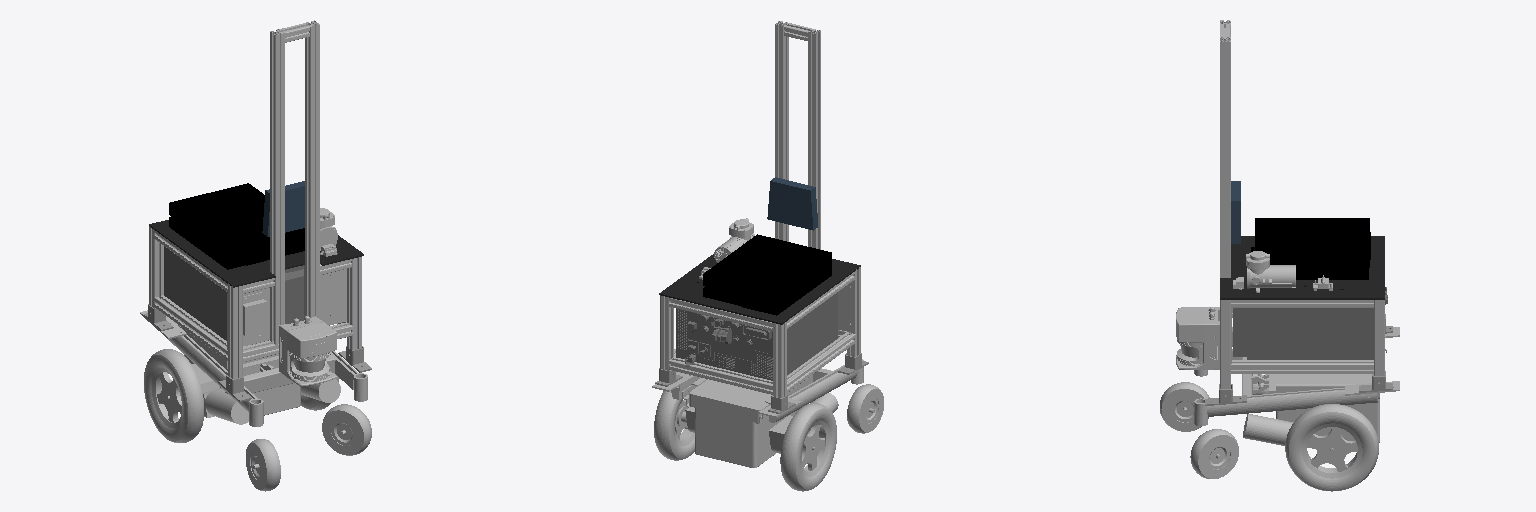
--- Facts derived from the render (not from the file) ---
The picture shows the robot from 3 angles, left to right: view 1: azimuth 30°, elevation 25°; view 2: azimuth 150°, elevation 25°; view 3: azimuth 270°, elevation 25°; orthographic projection.
Robot: robot_no_arm — 25 links, 24 joints (6 continuous, 18 fixed); root link frame1; default pose: every joint at zero.
Links seen in each view (by area): view 1: frame1, frame_solid:11, PC1, r_drive wheel1, IRC5_Compact1, SICK_LMS2911, top_plate1, l_caster_wheel1, r_caster_wheel1, router1, compressor1; view 2: frame1, frame_solid:11, IRC5_Compact1, PC1, r_drive wheel1, top_plate1, router1, l_drive_wheel1, r_caster_wheel1, compressor1; view 3: frame1, IRC5_Compact1, frame_solid:11, PC1, l_drive_wheel1, top_plate1, SICK_LMS2911, l_caster_wheel1, r_caster_wheel1, compressor1, router1.
Link boxes in pixels (x1=…): frame1: x1=149, y1=20, x2=361, y2=378; frame_solid:11: x1=167, y1=323, x2=367, y2=426; PC1: x1=169, y1=183, x2=304, y2=269; r_drive wheel1: x1=144, y1=349, x2=203, y2=442; IRC5_Compact1: x1=164, y1=246, x2=329, y2=344; SICK_LMS2911: x1=280, y1=316, x2=336, y2=386; top_plate1: x1=149, y1=220, x2=363, y2=287; l_caster_wheel1: x1=322, y1=404, x2=371, y2=455; r_caster_wheel1: x1=246, y1=439, x2=280, y2=491; router1: x1=262, y1=181, x2=304, y2=236; compressor1: x1=320, y1=208, x2=337, y2=248; frame1: x1=660, y1=21, x2=860, y2=397; frame_solid:11: x1=671, y1=359, x2=863, y2=467; IRC5_Compact1: x1=676, y1=292, x2=837, y2=380; PC1: x1=703, y1=234, x2=831, y2=315; r_drive wheel1: x1=780, y1=403, x2=836, y2=491; top_plate1: x1=659, y1=254, x2=860, y2=324; router1: x1=767, y1=177, x2=817, y2=230; l_drive_wheel1: x1=654, y1=391, x2=694, y2=460; r_caster_wheel1: x1=847, y1=384, x2=883, y2=433; compressor1: x1=714, y1=218, x2=754, y2=262; frame1: x1=1218, y1=20, x2=1384, y2=395; IRC5_Compact1: x1=1233, y1=287, x2=1387, y2=359; frame_solid:11: x1=1194, y1=349, x2=1379, y2=451; PC1: x1=1251, y1=218, x2=1370, y2=279; l_drive_wheel1: x1=1285, y1=404, x2=1378, y2=491; top_plate1: x1=1220, y1=236, x2=1384, y2=299; SICK_LMS2911: x1=1176, y1=307, x2=1217, y2=369; l_caster_wheel1: x1=1190, y1=429, x2=1238, y2=478; r_caster_wheel1: x1=1160, y1=382, x2=1209, y2=431; compressor1: x1=1246, y1=251, x2=1295, y2=292; router1: x1=1231, y1=181, x2=1240, y2=243.
Size in the robot's own frame: 0.6308 by 0.8792 by 1.72 metres.
20 mesh visuals loaded from 18 distinct referenced files (15 binary STL); not drawn: 5 (reference not matched to a file when rendering).

URDF robot description (robot_no_arm):
<?xml version="1.0" ?>
<robot name="robot_no_arm">
	<link name="frame1">
		<visual>
			<geometry>
				<mesh filename="package://abby_description/meshes/al_frame_iam_3826baa4.stl" scale="0.0254 0.0254 0.0254"/>
			</geometry>
			<origin rpy="0 0 0" xyz="0.0446356739978 0.177065647653 -0.0893087163603"/>
			<material name="frame1_color">
				<color rgba="0.752941 0.752941 0.752941 1"/>
			</material>
		</visual>
		<inertial>
			<mass value="12.7774249075"/>
			<inertia ixx="2.11995607184" ixy="-0.0128393605839" ixz="-0.0068818565379" iyy="1.84586933127" iyz="0.34872380742" izz="1.11710077832"/>
			<origin rpy="0 0 0" xyz="0.0382793240557 -0.271251963735 0.649589084908"/>
		</inertial>
		<collision>
			<geometry>
				<mesh filename="package://abby_description/meshes/al_frame_iam_3826baa4.stl" scale="0.0254 0.0254 0.0254"/>
			</geometry>
			<origin rpy="0 0 0" xyz="0.0446356739978 0.177065647653 -0.0893087163603"/>
		</collision>
	</link>
	<link name="f_r_frame_bracket1">
		<visual>
			<geometry>
				<mesh filename="package://abby_description/meshes/frame bracket_ipt_f5a4f28d.stl" scale="0.0254 0.0254 0.0254"/>
			</geometry>
			<origin rpy="0 0 0" xyz="-0.0946635865578 -0.0205552039632 -0.424782665556"/>
			<material name="f_r_frame_bracket1_color">
				<color rgba="0.639216 0.639216 0.639216 1"/>
			</material>
		</visual>
		<inertial>
			<mass value="0.71440798275"/>
			<inertia ixx="0.00043051877529" ixy="0.0" ixz="-1.18150140291e-05" iyy="0.00109167940213" iyz="0.0" izz="0.00105983757016"/>
			<origin rpy="0 0 0" xyz="-0.0175668955453 0.00484479603152 -0.408054413923"/>
		</inertial>
		<collision>
			<geometry>
				<mesh filename="package://abby_description/meshes/frame bracket_ipt_f5a4f28d.stl" scale="0.0254 0.0254 0.0254"/>
			</geometry>
			<origin rpy="0 0 0" xyz="-0.0946635865578 -0.0205552039632 -0.424782665556"/>
		</collision>
	</link>
	<joint name="frame--f_r_frame_bracket1" type="fixed">
		<parent link="frame1"/>
		<child link="f_r_frame_bracket1"/>
		<origin rpy="0 -0.0938814541614 1.5707963268" xyz="-0.197196963951 -0.46840807491 0.660027160644"/>
	</joint>
	<link name="f_l_frame_bracket1">
		<visual>
			<geometry>
				<mesh filename="package://abby_description/meshes/frame bracket_ipt_f5a4f28d.stl" scale="0.0254 0.0254 0.0254"/>
			</geometry>
			<origin rpy="0 0 0" xyz="-0.050800692836 -0.0508000000121 -0.00634958439213"/>
			<material name="f_l_frame_bracket1_color">
				<color rgba="0.639216 0.639216 0.639216 1"/>
			</material>
		</visual>
		<inertial>
			<mass value="0.71440798275"/>
			<inertia ixx="0.00043051877529" ixy="0.0" ixz="-1.18150140291e-05" iyy="0.00109167940213" iyz="0.0" izz="0.00105983757016"/>
			<origin rpy="0 0 0" xyz="0.026295998169 -0.025399999994 0.0103786672398"/>
		</inertial>
		<collision>
			<geometry>
				<mesh filename="package://abby_description/meshes/frame bracket_ipt_f5a4f28d.stl" scale="0.0254 0.0254 0.0254"/>
			</geometry>
			<origin rpy="0 0 0" xyz="-0.050800692836 -0.0508000000121 -0.00634958439213"/>
		</collision>
	</link>
	<joint name="f_l_frame_bracket--f_r_frame_bracket1" type="fixed">
		<parent link="f_r_frame_bracket1"/>
		<child link="f_l_frame_bracket1"/>
		<origin rpy="0 0 0" xyz="-0.0438628937327 -0.464082383966 -0.418433081198"/>
	</joint>
	<link name="f_l_frame_plate1">
		<visual>
			<geometry>
				<mesh filename="package://abby_description/meshes/front frame plate_ipt_3e5bfe16.stl" scale="0.0254 0.0254 0.0254"/>
			</geometry>
			<origin rpy="0 0 0" xyz="0 0 0"/>
			<material name="f_l_frame_plate1_color">
				<color rgba="0.752941 0.752941 0.752941 1"/>
			</material>
		</visual>
		<inertial>
			<mass value="0.072583397455"/>
			<inertia ixx="0.000139975007751" ixy="0.0" ixz="0.0" iyy="3.5475798236e-05" iyz="0.0" izz="0.000174962980108"/>
			<origin rpy="0 0 0" xyz="0.0380034800186 0.0762017426097 0.00317605933453"/>
		</inertial>
		<collision>
			<geometry>
				<mesh filename="package://abby_description/meshes/front frame plate_ipt_3e5bfe16.stl" scale="0.0254 0.0254 0.0254"/>
			</geometry>
			<origin rpy="0 0 0" xyz="0 0 0"/>
		</collision>
	</link>
	<joint name="f_l_frame_plate--f_l_frame_bracket1" type="fixed">
		<parent link="f_l_frame_bracket1"/>
		<child link="f_l_frame_plate1"/>
		<origin rpy="-3.14159265359 0 1.57079632679" xyz="-0.050800692836 -0.0508000000121 -0.00634958439213"/>
	</joint>
	<link name="f_r_frame_plate1">
		<visual>
			<geometry>
				<mesh filename="package://abby_description/meshes/front frame plate_ipt_3e5bfe16.stl" scale="0.0254 0.0254 0.0254"/>
			</geometry>
			<origin rpy="0 0 0" xyz="-0.0381000000045 -0.0762009322898 -0.00634941359797"/>
			<material name="f_r_frame_plate1_color">
				<color rgba="0.752941 0.752941 0.752941 1"/>
			</material>
		</visual>
		<inertial>
			<mass value="0.072583397455"/>
			<inertia ixx="0.000139975007751" ixy="0.0" ixz="0.0" iyy="3.5475798236e-05" iyz="0.0" izz="0.000174962980108"/>
			<origin rpy="0 0 0" xyz="-9.52500002381e-05 9.97890829302e-07 -0.00317559036918"/>
		</inertial>
		<collision>
			<geometry>
				<mesh filename="package://abby_description/meshes/front frame plate_ipt_3e5bfe16.stl" scale="0.0254 0.0254 0.0254"/>
			</geometry>
			<origin rpy="0 0 0" xyz="-0.0381000000045 -0.0762009322898 -0.00634941359797"/>
		</collision>
	</link>
	<joint name="f_r_frame_plate--f_r_frame_bracket1" type="fixed">
		<parent link="f_r_frame_bracket1"/>
		<child link="f_r_frame_plate1"/>
		<origin rpy="0 0 -1.57079632679" xyz="-0.0184628418291 -0.00785520396718 -0.424783134521"/>
	</joint>
	<link name="b_r_frame_bracket1">
		<visual>
			<geometry>
				<mesh filename="package://abby_description/meshes/short frame bracket_ipt_f5a4f28d.stl" scale="0.0254 0.0254 0.0254"/>
			</geometry>
			<origin rpy="0 0 0" xyz="-0.0774480173821 -0.0263550400145 -0.00822489041407"/>
			<material name="b_r_frame_bracket1_color">
				<color rgba="0.639216 0.639216 0.639216 1"/>
			</material>
		</visual>
		<inertial>
			<mass value="0.71440798275"/>
			<inertia ixx="0.00044432538895" ixy="0.0" ixz="-8.3387205787e-05" iyy="0.00086832128551" iyz="0.0" izz="0.00083243813657"/>
			<origin rpy="0 0 0" xyz="-0.00691246125573 -0.000955040002614 0.00995368760594"/>
		</inertial>
		<collision>
			<geometry>
				<mesh filename="package://abby_description/meshes/short frame bracket_ipt_f5a4f28d.stl" scale="0.0254 0.0254 0.0254"/>
			</geometry>
			<origin rpy="0 0 0" xyz="-0.0774480173821 -0.0263550400145 -0.00822489041407"/>
		</collision>
	</link>
	<joint name="frame--b_r_frame_bracket1" type="fixed">
		<parent link="frame1"/>
		<child link="b_r_frame_bracket1"/>
		<origin rpy="0 -0.0938814541614 1.57079632654" xyz="-0.202996799965 0.113567247403 0.29642350598"/>
	</joint>
	<link name="b_r_frame_plate1">
		<visual>
			<geometry>
				<mesh filename="package://abby_description/meshes/back frame plate_ipt_475e4947.stl" scale="0.0254 0.0254 0.0254"/>
			</geometry>
			<origin rpy="0 0 0" xyz="-0.0254000000255 -0.126998971214 1.58112569598e-06"/>
			<material name="b_r_frame_plate1_color">
				<color rgba="0.752941 0.752941 0.752941 1"/>
			</material>
		</visual>
		<inertial>
			<mass value="0.0971640215777"/>
			<inertia ixx="0.0003344255636" ixy="8.4155085275e-07" ixz="0.0" iyy="4.7517225512e-05" iyz="0.0" izz="0.00038129137915"/>
			<origin rpy="0 0 0" xyz="0.0126431039946 -0.025550836608 0.00317565745359"/>
		</inertial>
		<collision>
			<geometry>
				<mesh filename="package://abby_description/meshes/back frame plate_ipt_475e4947.stl" scale="0.0254 0.0254 0.0254"/>
			</geometry>
			<origin rpy="0 0 0" xyz="-0.0254000000255 -0.126998971214 1.58112569598e-06"/>
		</collision>
	</link>
	<joint name="b_r_frame_plate--b_r_frame_bracket1" type="fixed">
		<parent link="b_r_frame_bracket1"/>
		<child link="b_r_frame_plate1"/>
		<origin rpy="3.14159265359 0 -1.57079632679" xyz="-0.0520471238425 -0.000955040009423 -0.00822349691669"/>
	</joint>
	<link name="IRC5_Compact1">
		<visual>
			<geometry>
				<mesh filename="package://abby_description/meshes/irc5_compact_ipt_c844072c.stl" scale="0.0254 0.0254 0.0254"/>
			</geometry>
			<origin rpy="0 0 0" xyz="-0.000849884100615 0.0283509919265 -0.462400284136"/>
			<material name="IRC5_Compact1_color">
				<color rgba="0.498039 0.498039 0.498039 1"/>
			</material>
		</visual>
		<inertial>
			<mass value="28.440241599"/>
			<inertia ixx="0.75499468089" ixy="-0.00122306756239" ixz="-0.00124304296401" iyy="1.08063235538" iyz="-0.0064925615368" izz="0.61093241216"/>
			<origin rpy="0 0 0" xyz="-0.225686620068 0.151686511222 -0.249482492333"/>
		</inertial>
		<collision>
			<geometry>
				<mesh filename="package://abby_description/meshes/irc5_compact_ipt_c844072c.stl" scale="0.0254 0.0254 0.0254"/>
			</geometry>
			<origin rpy="0 0 0" xyz="-0.000849884100615 0.0283509919265 -0.462400284136"/>
		</collision>
	</link>
	<joint name="frame--IRC5_Compact1" type="fixed">
		<parent link="frame1"/>
		<child link="IRC5_Compact1"/>
		<origin rpy="1.5707959092 0 3.14159265334" xyz="-0.18299683996 0.0935673788127 0.353829950251"/>
	</joint>
	<link name="router1">
		<visual>
			<geometry>
				<mesh filename="package://abby_description/meshes/router keepout_ipt_2b3ba7b4.stl" scale="0.0254 0.0254 0.0254"/>
			</geometry>
			<origin rpy="0 0 0" xyz="0.0783000719655 0.725341498268 -1.11194969221e-06"/>
			<material name="router1_color">
				<color rgba="0.25098 0.321569 0.392157 1"/>
			</material>
		</visual>
		<inertial>
			<mass value="0.28349523125"/>
			<inertia ixx="0.00067729370465" ixy="0.0" ixz="0.0" iyy="0.0008954399563" iyz="0.0" izz="0.00150414540089"/>
			<origin rpy="0 0 0" xyz="0.0783000719663 0.727175853591 0.0190494073449"/>
		</inertial>
		<collision>
			<geometry>
				<mesh filename="package://abby_description/meshes/router keepout_ipt_2b3ba7b4.stl" scale="0.0254 0.0254 0.0254"/>
			</geometry>
			<origin rpy="0 0 0" xyz="0.0783000719655 0.725341498268 -1.11194969221e-06"/>
		</collision>
	</link>
	<joint name="frame--router1" type="fixed">
		<parent link="frame1"/>
		<child link="router1"/>
		<origin rpy="-1.5707959092 0 0" xyz="-0.0354469698523 -0.430316747951 1.61002981286"/>
	</joint>
	<link name="SICK_LMS2911">
		<visual>
			<geometry>
				<mesh filename="package://abby_description/meshes/sick lms291_ipt_2ad4e53c.stl" scale="0.0254 0.0254 0.0254"/>
			</geometry>
			<origin rpy="0 0 0" xyz="-0.0683999139953 -0.00245779587475 -0.0929987962566"/>
			<material name="SICK_LMS2911_color">
				<color rgba="0.752941 0.752941 0.752941 1"/>
			</material>
		</visual>
		<inertial>
			<mass value="3.71737544502"/>
			<inertia ixx="0.0174805834039" ixy="-4.4195210288e-07" ixz="4.1599227461e-07" iyy="0.0127643577208" iyz="0.00072853444335" izz="0.0175041992098"/>
			<origin rpy="0 0 0" xyz="-0.0684016920036 0.0653465146418 -0.0708751847642"/>
		</inertial>
		<collision>
			<geometry>
				<mesh filename="package://abby_description/meshes/sick lms291_ipt_2ad4e53c.stl" scale="0.0254 0.0254 0.0254"/>
			</geometry>
			<origin rpy="0 0 0" xyz="-0.0683999139953 -0.00245779587475 -0.0929987962566"/>
		</collision>
	</link>
	<joint name="frame--SICK_LMS2911" type="fixed">
		<parent link="frame1"/>
		<child link="SICK_LMS2911"/>
		<origin rpy="1.5707959092 0 -3.14159265358" xyz="-0.0255468119868 -0.474758386705 0.311455920061"/>
	</joint>
	<link name="base_plate1">
		<visual>
			<geometry>
				<mesh filename="package://abby_description/meshes/base plate_iam_348b8023.stl" scale="0.0254 0.0254 0.0254"/>
			</geometry>
			<origin rpy="0 0 0" xyz="-0.296284250178 -0.709693779926 -0.581261979343"/>
			<material name="base_plate1_color">
				<color rgba="0.752941 0.752941 0.752941 1"/>
			</material>
		</visual>
		<inertial>
			<mass value="11.253309185"/>
			<inertia ixx="0.192702049774" ixy="-0.0128927375727" ixz="-0.00057983680454" iyy="0.235790506928" iyz="0.002976996201" izz="0.41200655867"/>
			<origin rpy="0 0 0" xyz="-0.259429264405 -0.197794168785 -0.0311541484255"/>
		</inertial>
		<collision>
			<geometry>
				<mesh filename="package://abby_description/meshes/base plate_iam_348b8023.stl" scale="0.0254 0.0254 0.0254"/>
			</geometry>
			<origin rpy="0 0 0" xyz="-0.296284250178 -0.709693779926 -0.581261979343"/>
		</collision>
	</link>
	<joint name="frame--base_plate1" type="fixed">
		<parent link="frame1"/>
		<child link="base_plate1"/>
		<origin rpy="0 0 1.5707963268" xyz="-0.182996839959 0.0950674391444 0.365829741316"/>
	</joint>
	<link name="top_plate1">
		<visual>
			<geometry>
				<mesh filename="package://abby_description/meshes/top plate_ipt_9041f1eb.stl" scale="0.0254 0.0254 0.0254"/>
			</geometry>
			<origin rpy="0 0 0" xyz="-0.039999919998 -0.0370003177082 -0.00635046315153"/>
			<material name="top_plate1_color">
				<color rgba="0.2 0.2 0.2 1"/>
			</material>
		</visual>
		<inertial>
			<mass value="2.41906254029"/>
			<inertia ixx="0.070476646621" ixy="-3.2774173452e-05" ixz="0.0" iyy="0.05993791034" iyz="0.0" izz="0.130398461926"/>
			<origin rpy="0 0 0" xyz="0.229580439988 0.257942378411 -0.00317445298106"/>
		</inertial>
		<collision>
			<geometry>
				<mesh filename="package://abby_description/meshes/top plate_ipt_9041f1eb.stl" scale="0.0254 0.0254 0.0254"/>
			</geometry>
			<origin rpy="0 0 0" xyz="-0.039999919998 -0.0370003177082 -0.00635046315153"/>
		</collision>
	</link>
	<joint name="frame--top_plate1" type="fixed">
		<parent link="frame1"/>
		<child link="top_plate1"/>
		<origin rpy="-3.14159265359 0 0" xyz="-0.182996839929 0.0965675138916 0.656087848989"/>
	</joint>
	<link name="main_breaker1">
		<visual>
			<geometry>
				<mesh filename="package://abby_description/meshes/breaker_iam_746c8f85.stl" scale="0.0254 0.0254 0.0254"/>
			</geometry>
			<origin rpy="0 0 0" xyz="-0.0160837880011 -0.0289106364367 0.00508056290676"/>
			<material name="main_breaker1_color">
				<color rgba="0.752941 0.752941 0.752941 1"/>
			</material>
		</visual>
		<inertial>
			<mass value="0.0936536702263"/>
			<inertia ixx="3.6925814571e-05" ixy="-4.3535021216e-06" ixz="1.05382973255e-07" iyy="2.44166070505e-05" iyz="-2.55254379072e-12" izz="4.8649438065e-05"/>
			<origin rpy="0 0 0" xyz="-0.0161287460005 -0.0289109627394 0.0153385723229"/>
		</inertial>
		<collision>
			<geometry>
				<mesh filename="package://abby_description/meshes/breaker_iam_746c8f85.stl" scale="0.0254 0.0254 0.0254"/>
			</geometry>
			<origin rpy="0 0 0" xyz="-0.0160837880011 -0.0289106364367 0.00508056290676"/>
		</collision>
	</link>
	<joint name="main_breaker--top_plate1" type="fixed">
		<parent link="top_plate1"/>
		<child link="main_breaker1"/>
		<origin rpy="3.14159265359 0 0" xyz="0.426298867993 0.159767684312 -0.00635046455001"/>
	</joint>
	<link name="compressor1">
		<visual>
			<geometry>
				<mesh filename="package://abby_description/meshes/compressor_iam_e870b89.stl" scale="0.0254 0.0254 0.0254"/>
			</geometry>
			<origin rpy="0 0 0" xyz="0.217095026073 0.0541649919903 0.058507418554"/>
			<material name="compressor1_color">
				<color rgba="0.752941 0.752941 0.752941 1"/>
			</material>
		</visual>
		<inertial>
			<mass value="2.12621423437"/>
			<inertia ixx="-0.0061140063136" ixy="0.0073422915937" ixz="0.0121866630191" iyy="-0.0247184035886" iyz="0.0043080263318" izz="-0.0223276763534"/>
			<origin rpy="0 0 0" xyz="0.0555649192101 -0.000189230004887 -0.0360164073274"/>
		</inertial>
		<collision>
			<geometry>
				<mesh filename="package://abby_description/meshes/compressor_iam_e870b89.stl" scale="0.0254 0.0254 0.0254"/>
			</geometry>
			<origin rpy="0 0 0" xyz="0.217095026073 0.0541649919903 0.058507418554"/>
		</collision>
	</link>
	<joint name="compressor--top_plate1" type="fixed">
		<parent link="top_plate1"/>
		<child link="compressor1"/>
		<origin rpy="2.35090778551e-05 1.5707959092 1.57081983614" xyz="0.40450007998 0.426550996313 -0.00635023492284"/>
	</joint>
	<link name="PC1">
		<visual>
			<geometry>
				<mesh filename="package://abby_description/meshes/pc_ipt_a7ade237.stl" scale="0.0254 0.0254 0.0254"/>
			</geometry>
			<origin rpy="0 0 0" xyz="0 -0.095249567657 -1.9383533062e-07"/>
			<material name="PC1_color">
				<color rgba="0 0 0 1"/>
			</material>
		</visual>
		<inertial>
			<mass value="13.0796535036"/>
			<inertia ixx="0.199045542023" ixy="0.000104306361732" ixz="0.00061701926176" iyy="0.3078833877" iyz="0.000148148651798" izz="0.128774326576"/>
			<origin rpy="0 0 0" xyz="0.164833477815 -0.0476494270341 0.207873207523"/>
		</inertial>
		<collision>
			<geometry>
				<mesh filename="package://abby_description/meshes/pc_ipt_a7ade237.stl" scale="0.0254 0.0254 0.0254"/>
			</geometry>
			<origin rpy="0 0 0" xyz="0 -0.095249567657 -1.9383533062e-07"/>
		</collision>
	</link>
	<joint name="PC--top_plate1" type="fixed">
		<parent link="top_plate1"/>
		<child link="PC1"/>
		<origin rpy="1.57079674439 0 0" xyz="0.0108000799797 0.436074033464 -0.00635125529283"/>
	</joint>
	<link name="spike_relay1">
		<visual>
			<geometry>
				<mesh filename="package://abby_description/meshes/spike h_iam_f19c9874.stl" scale="0.0254 0.0254 0.0254"/>
			</geometry>
			<origin rpy="0 0 0" xyz="0.165495388905 -0.231988605905 -4.80033572003e-07"/>
			<material name="spike_relay1_color">
				<color rgba="0.752941 0.752941 0.752941 1"/>
			</material>
		</visual>
		<inertial>
			<mass value="0.02553552678"/>
			<inertia ixx="4.8431130863e-06" ixy="-7.8309953837e-09" ixz="-2.27668366993e-09" iyy="8.2511635883e-06" iyz="-1.99978761416e-07" izz="1.02136458377e-05"/>
			<origin rpy="0 0 0" xyz="0.16538182583 -0.230617385381 0.00965819617544"/>
		</inertial>
		<collision>
			<geometry>
				<mesh filename="package://abby_description/meshes/spike h_iam_f19c9874.stl" scale="0.0254 0.0254 0.0254"/>
			</geometry>
			<origin rpy="0 0 0" xyz="0.165495388905 -0.231988605905 -4.80033572003e-07"/>
		</collision>
	</link>
	<joint name="top_plate--spike_relay1" type="fixed">
		<parent link="top_plate1"/>
		<child link="spike_relay1"/>
		<origin rpy="3.14159264636 0 0.00520380555278" xyz="0.229875079988 0.264625478066 -0.00635030519039"/>
	</joint>
	<link name="b_l_frame_bracket1">
		<visual>
			<geometry>
				<mesh filename="package://abby_description/meshes/short frame bracket_ipt_f5a4f28d.stl" scale="0.0254 0.0254 0.0254"/>
			</geometry>
			<origin rpy="0 0 0" xyz="-0.0635428211507 -0.00444500001769 -0.0603982600527"/>
			<material name="b_l_frame_bracket1_color">
				<color rgba="0.639216 0.639216 0.639216 1"/>
			</material>
		</visual>
		<inertial>
			<mass value="0.71440798275"/>
			<inertia ixx="0.00044432538895" ixy="0.0" ixz="-8.3387205787e-05" iyy="0.00086832128551" iyz="0.0" izz="0.00083243813657"/>
			<origin rpy="0 0 0" xyz="0.00699273497077 0.020955000008 -0.0422196820327"/>
		</inertial>
		<collision>
			<geometry>
				<mesh filename="package://abby_description/meshes/short frame bracket_ipt_f5a4f28d.stl" scale="0.0254 0.0254 0.0254"/>
			</geometry>
			<origin rpy="0 0 0" xyz="-0.0635428211507 -0.00444500001769 -0.0603982600527"/>
		</collision>
	</link>
	<joint name="b_l_frame_bracket--frame1" type="fixed">
		<parent link="frame1"/>
		<child link="b_l_frame_bracket1"/>
		<origin rpy="0 -0.0938814541614 1.57079632635" xyz="0.313240420039 0.0948323645811 0.347063600205"/>
	</joint>
	<link name="b_l_frame_plate1">
		<visual>
			<geometry>
				<mesh filename="package://abby_description/meshes/back frame plate_ipt_475e4947.stl" scale="0.0254 0.0254 0.0254"/>
			</geometry>
			<origin rpy="0 0 0" xyz="0 0 0"/>
			<material name="b_l_frame_plate1_color">
				<color rgba="0.752941 0.752941 0.752941 1"/>
			</material>
		</visual>
		<inertial>
			<mass value="0.0971640215777"/>
			<inertia ixx="0.0003344255636" ixy="8.4155085275e-07" ixz="0.0" iyy="4.7517225512e-05" iyz="0.0" izz="0.00038129137915"/>
			<origin rpy="0 0 0" xyz="0.0380441199796 0.101448124476 0.00317600333501"/>
		</inertial>
		<collision>
			<geometry>
				<mesh filename="package://abby_description/meshes/back frame plate_ipt_475e4947.stl" scale="0.0254 0.0254 0.0254"/>
			</geometry>
			<origin rpy="0 0 0" xyz="0 0 0"/>
		</collision>
	</link>
	<joint name="b_l_frame_plate--b_l_frame_bracket1" type="fixed">
		<parent link="b_l_frame_bracket1"/>
		<child link="b_l_frame_plate1"/>
		<origin rpy="0 0 1.57079632699" xyz="0.0888570334677 -0.00444499995661 -0.0667485273456"/>
	</joint>
	<link name="frame_solid:11">
		<visual>
			<geometry>
				<mesh filename="package://abby_description/meshes/frame_solid_iam_8d469021.stl" scale="0.0254 0.0254 0.0254"/>
			</geometry>
			<origin rpy="0 0 0" xyz="-3.47155770013 -0.38147033036 2.30808809655"/>
			<material name="frame_solid:11_color">
				<color rgba="0.752941 0.752941 0.752941 1"/>
			</material>
		</visual>
		<inertial>
			<mass value="76.9265443978"/>
			<inertia ixx="-0.199581653007" ixy="-0.082679316884" ixz="0.0112391336768" iyy="2.03829571699" iyz="-0.249221082043" izz="-0.62699233072"/>
			<origin rpy="0 0 0" xyz="-0.250028710016 -0.128949655059 0.228101121891"/>
		</inertial>
		<collision>
			<geometry>
				<mesh filename="package://abby_description/meshes/frame_solid_iam_8d469021.stl" scale="0.0254 0.0254 0.0254"/>
			</geometry>
			<origin rpy="0 0 0" xyz="-3.47155770013 -0.38147033036 2.30808809655"/>
		</collision>
	</link>
	<joint name="b_l_frame_plate--frame_solid:11" type="fixed">
		<parent link="b_l_frame_plate1"/>
		<child link="frame_solid:11"/>
		<origin rpy="1.47691420527 0 -3.14159265334" xyz="0.0380441199796 0.101448124476 0.00317600333501"/>
	</joint>
	<link name="l_caster1">
		<visual>
			<geometry>
				<mesh filename="package://abby_description/meshes/caster_ipt_ca03a3d7.stl" scale="0.0254 0.0254 0.0254"/>
			</geometry>
			<origin rpy="0 0 0" xyz="8.42753967015e-07 -0.13652463702 -0.0253998728835"/>
			<material name="l_caster1_color">
				<color rgba="0 0 0 1"/>
			</material>
		</visual>
		<inertial>
			<mass value="0.141176996424"/>
			<inertia ixx="0.00051323847608" ixy="0.0" ixz="0.0" iyy="0.00026112292147" iyz="0.000151341028831" izz="0.00058482333902"/>
			<origin rpy="0 0 0" xyz="-2.95905491936e-07 -0.0595480601633 0.018131413861"/>
		</inertial>
		<collision>
			<geometry>
				<mesh filename="package://abby_description/meshes/caster_ipt_ca03a3d7.stl" scale="0.0254 0.0254 0.0254"/>
			</geometry>
			<origin rpy="0 0 0" xyz="8.42753967015e-07 -0.13652463702 -0.0253998728835"/>
		</collision>
	</link>
	<joint name="l_caster_joint" type="continuous">
		<parent link="frame_solid:11"/>
		<child link="l_caster1"/>
		<axis xyz="0 1 0"/>
		<origin rpy="3.14159154933 -0.529419117266 -3.1415922637" xyz="-0.016388080036 -0.149221796489 0.625818601504"/>
	</joint>
	<link name="l_caster_wheel1">
		<visual>
			<geometry>
				<mesh filename="package://abby_description/meshes/caster wheel_ipt_4784d7d8.stl" scale="0.0254 0.0254 0.0254"/>
			</geometry>
			<origin rpy="0 0 0" xyz="-1.18418908775e-06 -0.0380989161968 -1.67691861175e-06"/>
			<material name="l_caster_wheel1_color">
				<color rgba="0.752941 0.752941 0.752941 1"/>
			</material>
		</visual>
		<inertial>
			<mass value="1.4177347039"/>
			<inertia ixx="0.0034966317219" ixy="0.0" ixz="0.0" iyy="0.0063467697834" iyz="0.0" izz="0.0034966317219"/>
			<origin rpy="0 0 0" xyz="-1.18418908775e-06 -0.0380989161968 -1.67691861175e-06"/>
		</inertial>
		<collision>
			<geometry>
				<mesh filename="package://abby_description/meshes/caster wheel_ipt_4784d7d8.stl" scale="0.0254 0.0254 0.0254"/>
			</geometry>
			<origin rpy="0 0 0" xyz="-1.18418908775e-06 -0.0380989161968 -1.67691861175e-06"/>
		</collision>
	</link>
	<joint name="l_caster_wheel_joint" type="continuous">
		<parent link="l_caster1"/>
		<child link="l_caster_wheel1"/>
		<axis xyz="0 1 0"/>
		<origin rpy="6.29554520079e-07 -0.0978245101151 -1.57079646214" xyz="0.0374386651859 -0.136525432368 0.0571509283666"/>
	</joint>
	<link name="r_caster1">
		<visual>
			<geometry>
				<mesh filename="package://abby_description/meshes/caster_ipt_ca03a3d7.stl" scale="0.0254 0.0254 0.0254"/>
			</geometry>
			<origin rpy="0 0 0" xyz="-1.44488080778e-07 -0.136524926369 -0.0254000128924"/>
			<material name="r_caster1_color">
				<color rgba="0 0 0 1"/>
			</material>
		</visual>
		<inertial>
			<mass value="0.141176996424"/>
			<inertia ixx="0.00051323847608" ixy="0.0" ixz="0.0" iyy="0.00026112292147" iyz="0.000151341028831" izz="0.00058482333902"/>
			<origin rpy="0 0 0" xyz="1.20291708094e-07 -0.0595479590544 0.0181329136137"/>
		</inertial>
		<collision>
			<geometry>
				<mesh filename="package://abby_description/meshes/caster_ipt_ca03a3d7.stl" scale="0.0254 0.0254 0.0254"/>
			</geometry>
			<origin rpy="0 0 0" xyz="-1.44488080778e-07 -0.136524926369 -0.0254000128924"/>
		</collision>
	</link>
	<joint name="r_caster_joint" type="continuous">
		<parent link="frame_solid:11"/>
		<child link="r_caster1"/>
		<axis xyz="0 1 0"/>
		<origin rpy="0 -0.0645005439914 0" xyz="-0.446765426036 -0.149221796474 0.625818601482"/>
	</joint>
	<link name="r_caster_wheel1">
		<visual>
			<geometry>
				<mesh filename="package://abby_description/meshes/caster wheel_ipt_4784d7d8.stl" scale="0.0254 0.0254 0.0254"/>
			</geometry>
			<origin rpy="0 0 0" xyz="-1.43565576272e-06 -0.0380999206774 0"/>
			<material name="r_caster_wheel1_color">
				<color rgba="0.752941 0.752941 0.752941 1"/>
			</material>
		</visual>
		<inertial>
			<mass value="1.4177347039"/>
			<inertia ixx="0.0034966317219" ixy="0.0" ixz="0.0" iyy="0.0063467697834" iyz="0.0" izz="0.0034966317219"/>
			<origin rpy="0 0 0" xyz="-1.43565576272e-06 -0.0380999206774 0"/>
		</inertial>
		<collision>
			<geometry>
				<mesh filename="package://abby_description/meshes/caster wheel_ipt_4784d7d8.stl" scale="0.0254 0.0254 0.0254"/>
			</geometry>
			<origin rpy="0 0 0" xyz="-1.43565576272e-06 -0.0380999206774 0"/>
		</collision>
	</link>
	<joint name="r_caster_wheel_joint" type="continuous">
		<parent link="r_caster1"/>
		<child link="r_caster_wheel1"/>
		<axis xyz="0 1 0"/>
		<origin rpy="-2.44191411285e-07 0.632428512243 -1.570796684" xyz="0.0374395826544 -0.13652471423 0.0571493788518"/>
	</joint>
	<link name="l_drive_wheel1">
		<visual>
			<geometry>
				<mesh filename="package://abby_description/meshes/wheel_ipt_982fa4fe.stl" scale="0.0254 0.0254 0.0254"/>
			</geometry>
			<origin rpy="0 0 0" xyz="0 0 0"/>
			<material name="l_drive_wheel1_color">
				<color rgba="0.752941 0.752941 0.752941 1"/>
			</material>
		</visual>
		<inertial>
			<mass value="3.52668067675"/>
			<inertia ixx="0.032456077033" ixy="0.0" ixz="0.0" iyy="0.062503458919" iyz="0.0" izz="0.032456077033"/>
			<origin rpy="0 0 0" xyz="0 -0.00071882 0"/>
		</inertial>
		<collision>
			<geometry>
				<mesh filename="package://abby_description/meshes/wheel_ipt_982fa4fe.stl" scale="0.0254 0.0254 0.0254"/>
			</geometry>
			<origin rpy="0 0 0" xyz="0 0 0"/>
		</collision>
	</link>
	<joint name="l_drive_wheel_joint" type="continuous">
		<parent link="frame_solid:11"/>
		<child link="l_drive_wheel1"/>
		<axis xyz="0 -1 0"/>
		<origin rpy="0 -0.119809660819 1.57079632679" xyz="0.0466801199851 -0.217162738547 0.147715939724"/>
	</joint>
	<link name="r_drive wheel1">
		<visual>
			<geometry>
				<mesh filename="package://abby_description/meshes/wheel_ipt_982fa4fe.stl" scale="0.0254 0.0254 0.0254"/>
			</geometry>
			<origin rpy="0 0 0" xyz="0 0 0"/>
			<material name="r_drive wheel1_color">
				<color rgba="0.752941 0.752941 0.752941 1"/>
			</material>
		</visual>
		<inertial>
			<mass value="3.52668067675"/>
			<inertia ixx="0.032456077033" ixy="0.0" ixz="0.0" iyy="0.062503458919" iyz="0.0" izz="0.032456077033"/>
			<origin rpy="0 0 0" xyz="0 -0.000718058 0"/>
		</inertial>
		<collision>
			<geometry>
				<mesh filename="package://abby_description/meshes/wheel_ipt_982fa4fe.stl" scale="0.0254 0.0254 0.0254"/>
			</geometry>
			<origin rpy="0 0 0" xyz="0 0 0"/>
		</collision>
	</link>
	<joint name="r_drive_wheel_joint" type="continuous">
		<parent link="frame_solid:11"/>
        <child link="r_drive wheel1"/>
        <axis xyz="0 1 0"/>
		<origin rpy="0 -0.443332433305 -1.57079632679" xyz="-0.509833626015 -0.217162738527 0.147715939697"/>
	</joint>
</robot>
